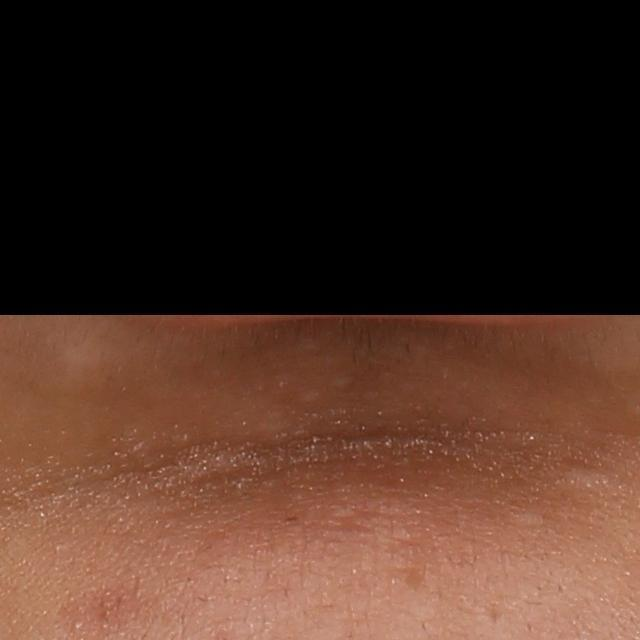hypertrophic_scar: (544, 460, 626, 494)
